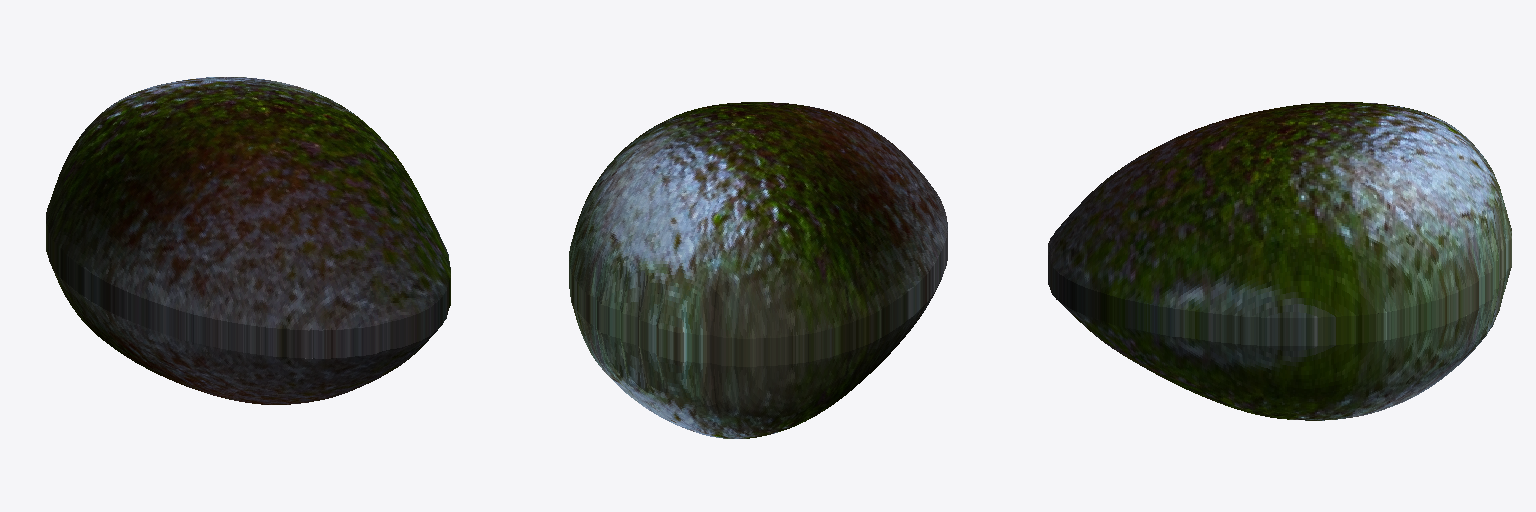
The picture shows the model from 3 angles: view 1: azimuth 30°, elevation 25°; view 2: azimuth 150°, elevation 25°; view 3: azimuth 270°, elevation 25°; orthographic projection.
Parts seen in each view (by area): view 1: Grid; view 2: Grid; view 3: Grid.
Part boxes in pixels (x1,y1,x2,y2): Grid: (46, 77, 450, 404); Grid: (569, 102, 947, 438); Grid: (1048, 102, 1511, 420).
Size of the model in its own units: 1.4 by 1.2 by 1.8.
1 materials, 1 textured.